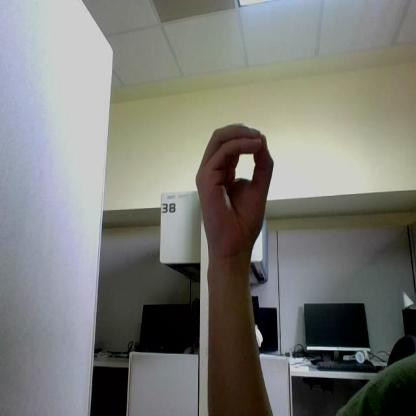O: (196, 124, 273, 250)
